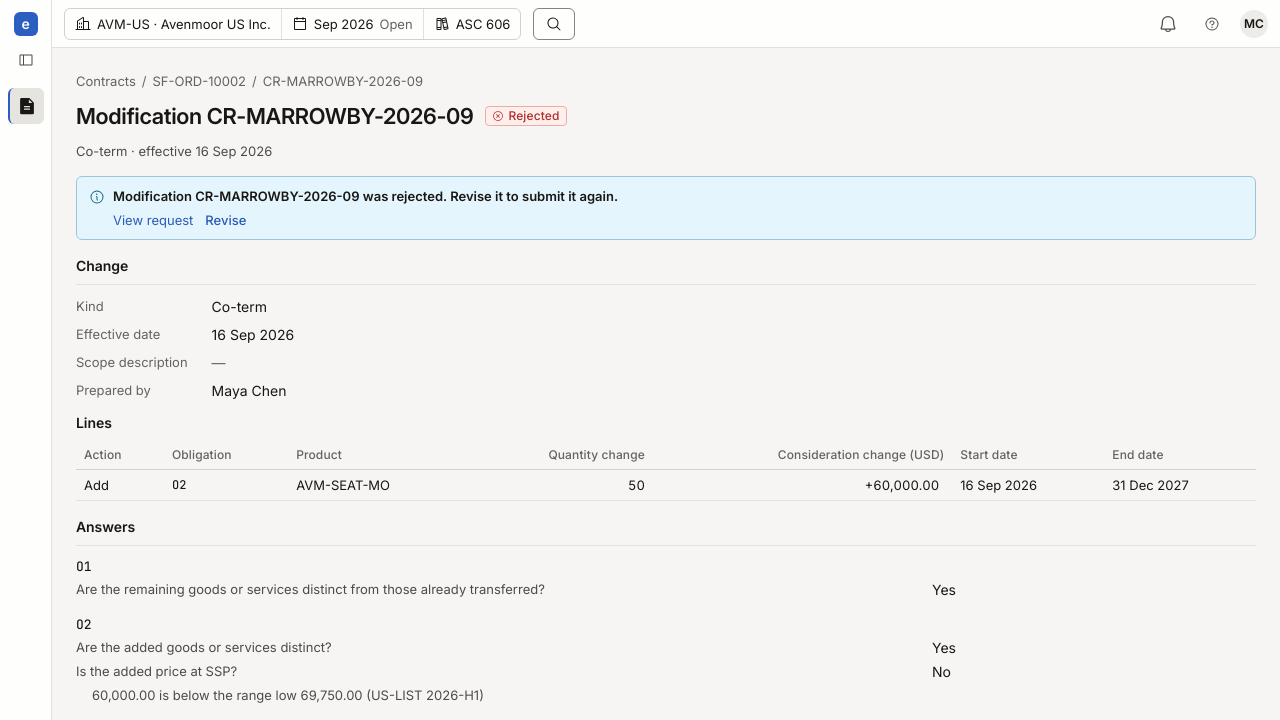
Test: SF-07:detail, a rejected modification › a rejected modification names its rejection under the header, and its holder revises it after a confirmation: an empty PATCH, then step Change
Expected: the header that starts with "Contracts" shows "Rejected", [508,108,560,123]
What coordinates should you click on to do the following:
click the button "Revise"
I would click on:
 (226, 220)
Its box is [205,211,246,229].
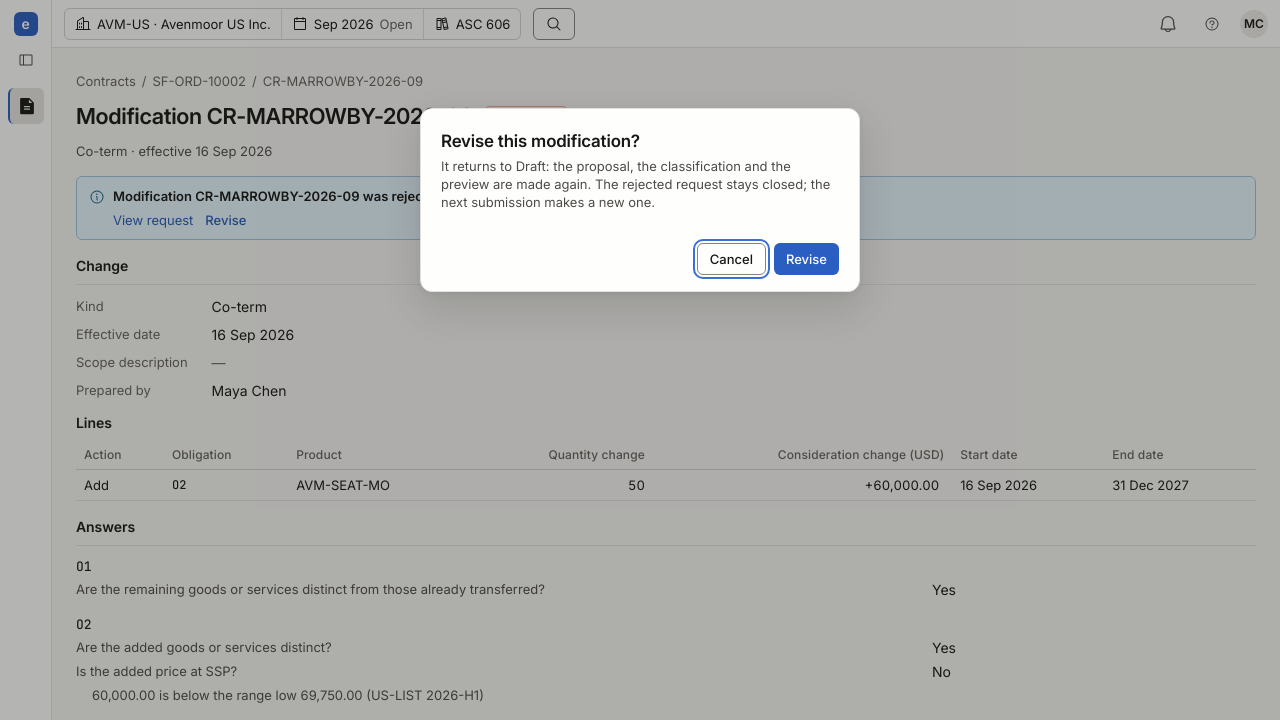
Expected: the text "It returns to Draft: the proposal, the classification and the preview are made again. The rejected request stays closed;" is shown, [441,158,830,210]
What coordinates should you click on to do the following:
click the button "Revise"
I would click on:
 (806, 259)
Its box is [774,243,839,275].
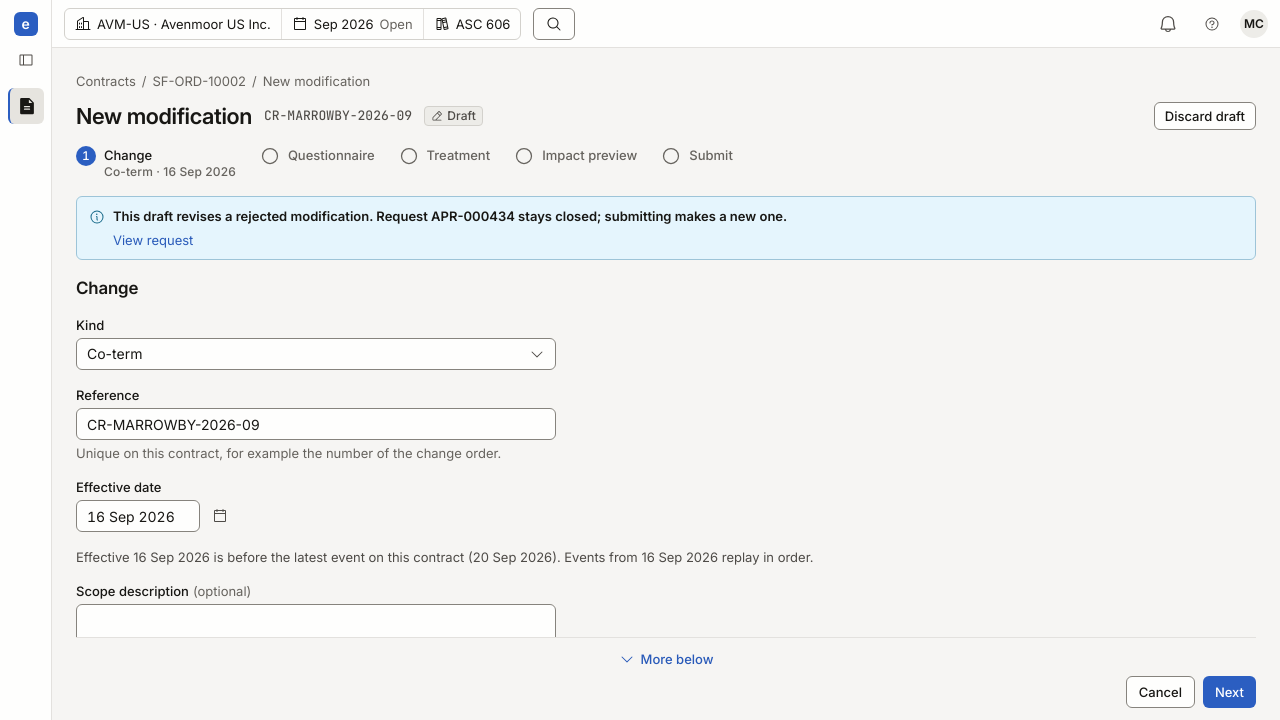
Expected: the element with test id "SF-07-page" is shown
Expected: the text box labelled "Scope description(optional)" is shown, [76,604,556,674]
Expected: the dialog is gone
